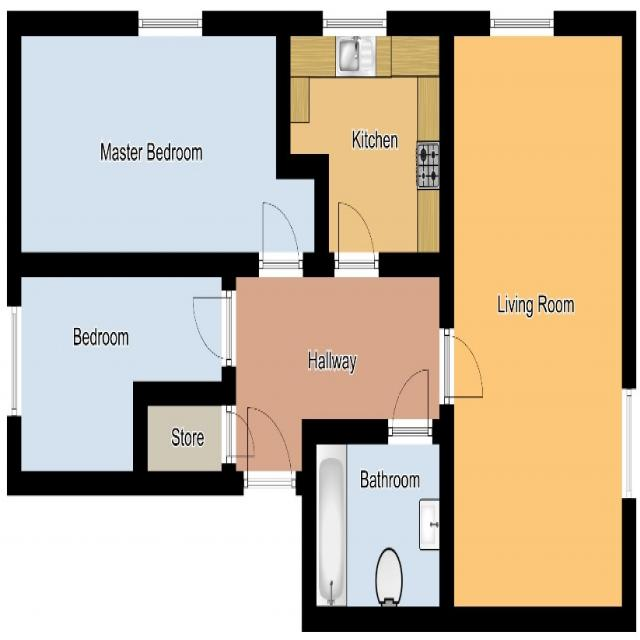DOOR: (241, 404, 297, 495), (333, 200, 380, 278), (257, 200, 304, 278), (439, 325, 484, 406), (191, 288, 236, 369), (387, 368, 434, 445)
ROOM: (439, 11, 637, 633), (7, 8, 330, 278), (6, 253, 237, 500), (276, 10, 456, 278)
WINDOW: (136, 9, 204, 37), (621, 386, 637, 501), (6, 305, 22, 419), (322, 10, 388, 37), (489, 10, 555, 37)
